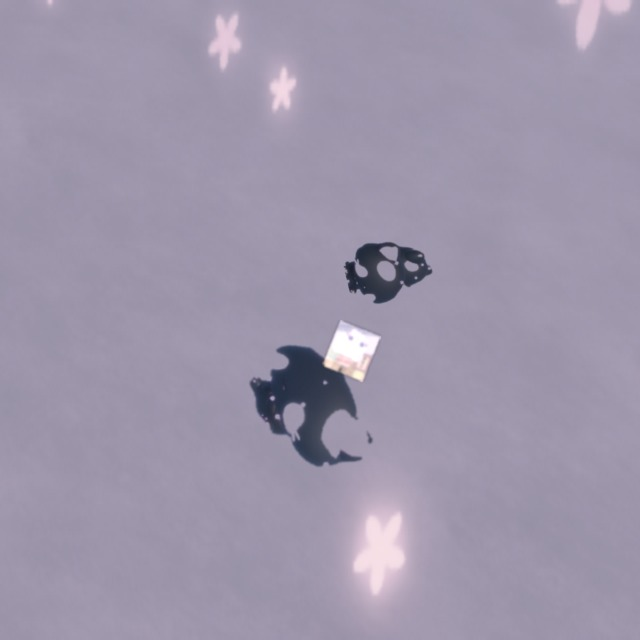urso_branco: (322, 320, 381, 382)
urso_preto: (214, 299, 409, 515), (339, 226, 444, 316)
